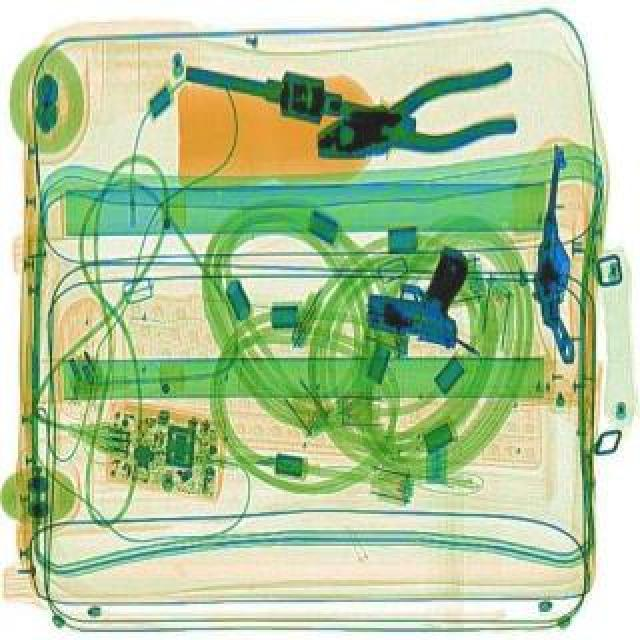gun: (520, 140, 600, 360), (356, 228, 480, 346)
wrench: (302, 58, 534, 184)
